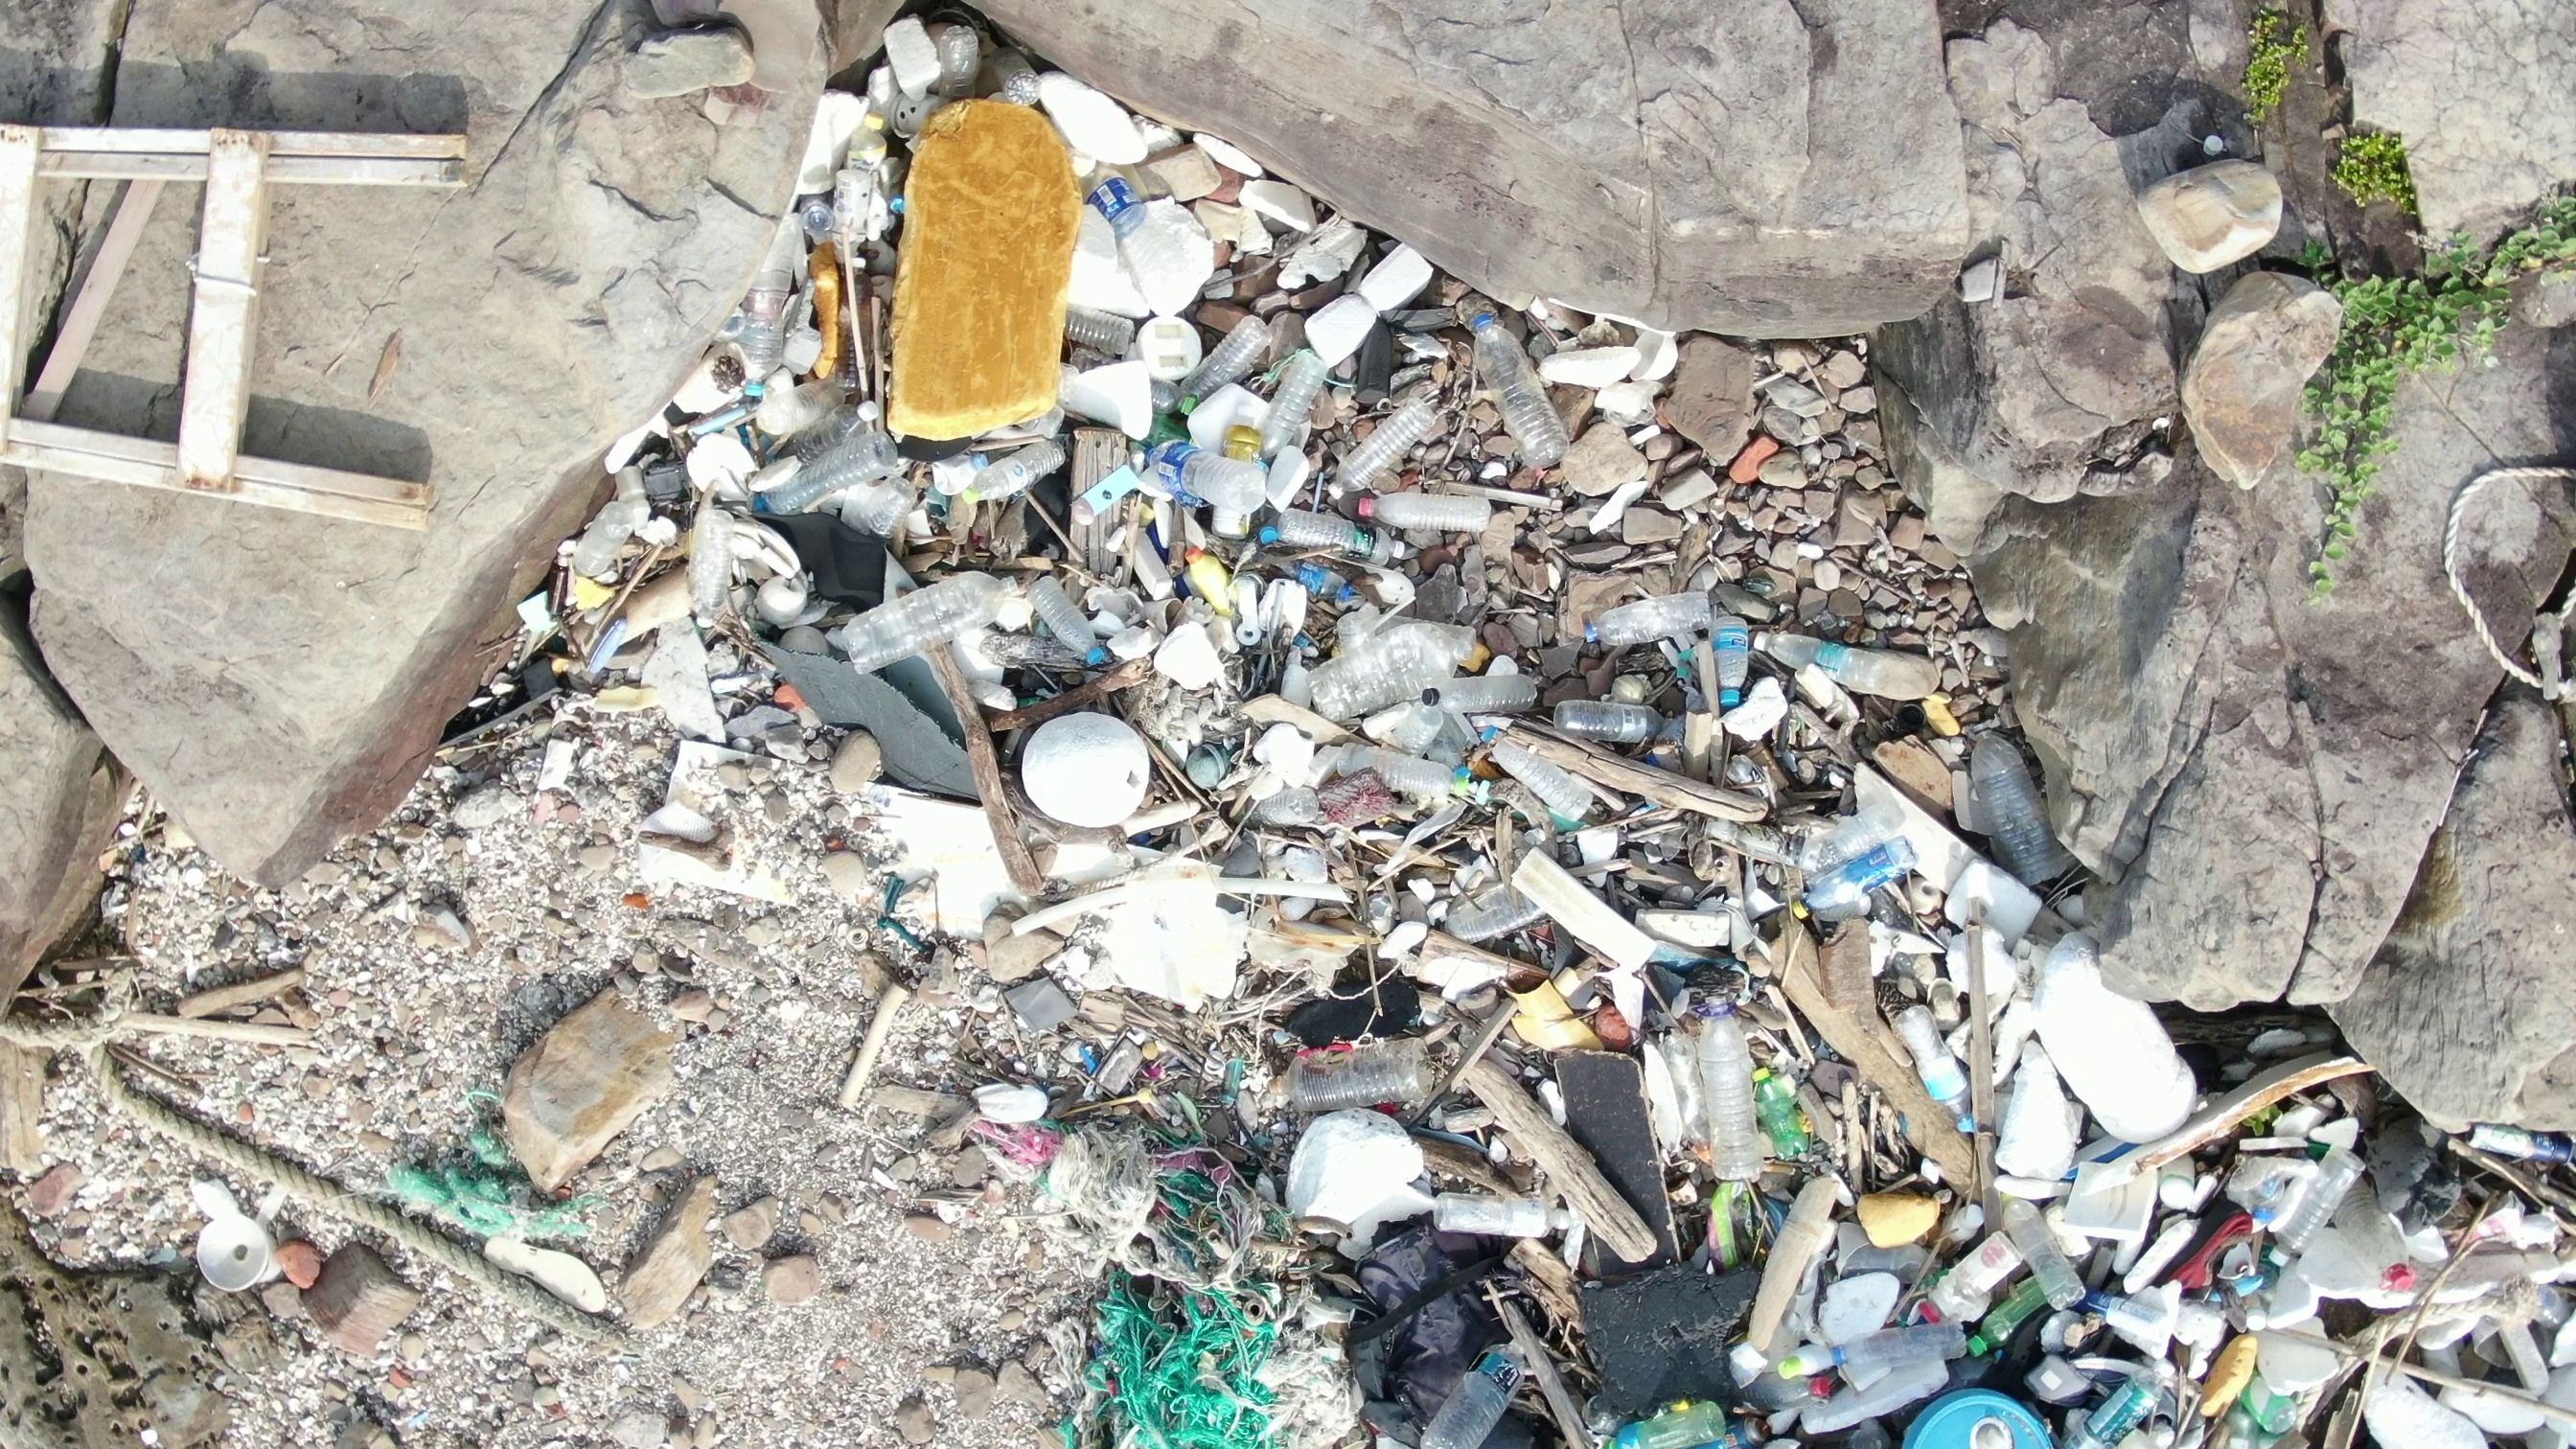bottle: (1776, 1329, 2013, 1437), (837, 563, 1026, 681), (1460, 311, 1573, 471), (1755, 619, 1948, 709), (1888, 998, 1994, 1146), (2265, 1145, 2381, 1276), (748, 428, 906, 524), (1967, 717, 2058, 878), (1987, 1180, 2095, 1315), (1700, 991, 1769, 1196), (1481, 724, 1599, 840), (731, 223, 798, 410), (1272, 1044, 1453, 1111), (1327, 731, 1483, 807), (1440, 1330, 1536, 1449), (1332, 396, 1451, 488), (1019, 557, 1109, 678), (1171, 306, 1274, 410), (1141, 430, 1260, 515), (2074, 1355, 2180, 1449), (1805, 832, 1928, 911), (1081, 163, 1168, 269), (2450, 1111, 2576, 1180), (1576, 586, 1711, 649), (1263, 541, 1373, 609), (1359, 483, 1502, 531), (1599, 1389, 1711, 1449), (1702, 607, 1764, 708), (1568, 694, 1684, 745), (1281, 504, 1396, 554), (1279, 340, 1332, 446), (1417, 671, 1539, 717), (1753, 1065, 1810, 1164), (989, 39, 1053, 119), (934, 18, 987, 103), (2240, 1357, 2293, 1440), (1054, 303, 1132, 357), (796, 180, 844, 251)
garbage: (805, 531, 2089, 1168), (1095, 1010, 2576, 1444), (748, 16, 1591, 543), (9, 973, 637, 1352), (2, 127, 488, 533), (487, 272, 801, 755), (2415, 444, 2576, 704)
